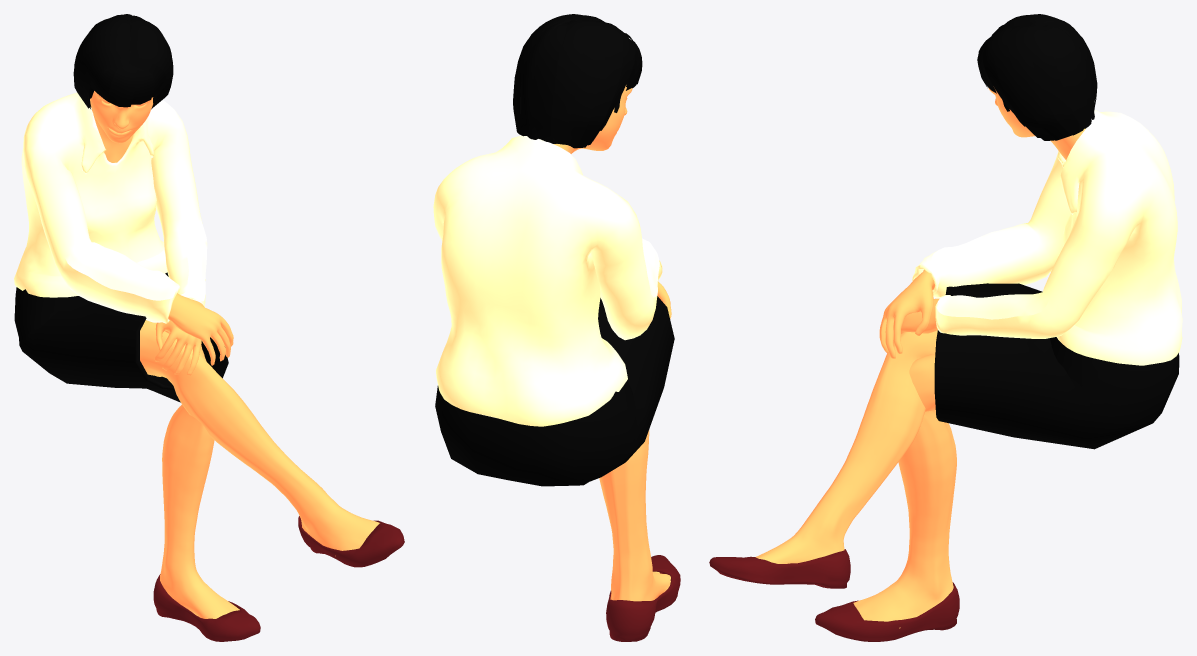
Rendered from Woman_05_Sitting-transformed.glb.
The picture shows the model from 3 angles, left to right: view 1: azimuth 30°, elevation 25°; view 2: azimuth 150°, elevation 25°; view 3: azimuth 270°, elevation 25°; orthographic projection. The views are drawn at different scales.
Visible parts, largest first — view 1: Top, Body, Bottoms, Hair, Shoes; view 2: Top, Bottoms, Hair, Body, Shoes; view 3: Top, Body, Bottoms, Hair, Shoes.
Boxes of the visible parts, x1,y1,x2,y2 form: Top: (14, 92, 207, 323); Body: (90, 91, 379, 618); Bottoms: (14, 272, 228, 402); Hair: (73, 14, 173, 109); Shoes: (153, 516, 404, 641); Top: (433, 135, 662, 426); Bottoms: (435, 296, 674, 486); Hair: (513, 14, 642, 148); Body: (553, 85, 671, 601); Shoes: (606, 555, 680, 641); Top: (912, 110, 1182, 365); Body: (755, 88, 1085, 628); Bottoms: (934, 283, 1179, 449); Hair: (977, 14, 1097, 140); Shoes: (709, 549, 959, 641).
Bounding box in the file's own units: 0.5274 × 1.3 × 0.925.
